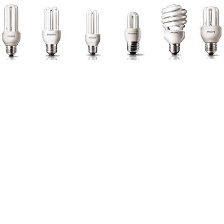light_bulb: (158, 1, 190, 61), (197, 2, 224, 61), (40, 3, 64, 60), (0, 3, 22, 60), (81, 5, 103, 58), (122, 9, 145, 58)
